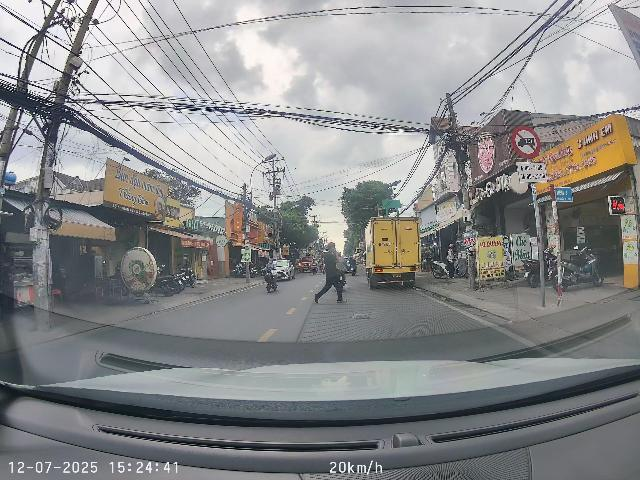106-cam-oto-tai: (511, 126, 541, 158)
